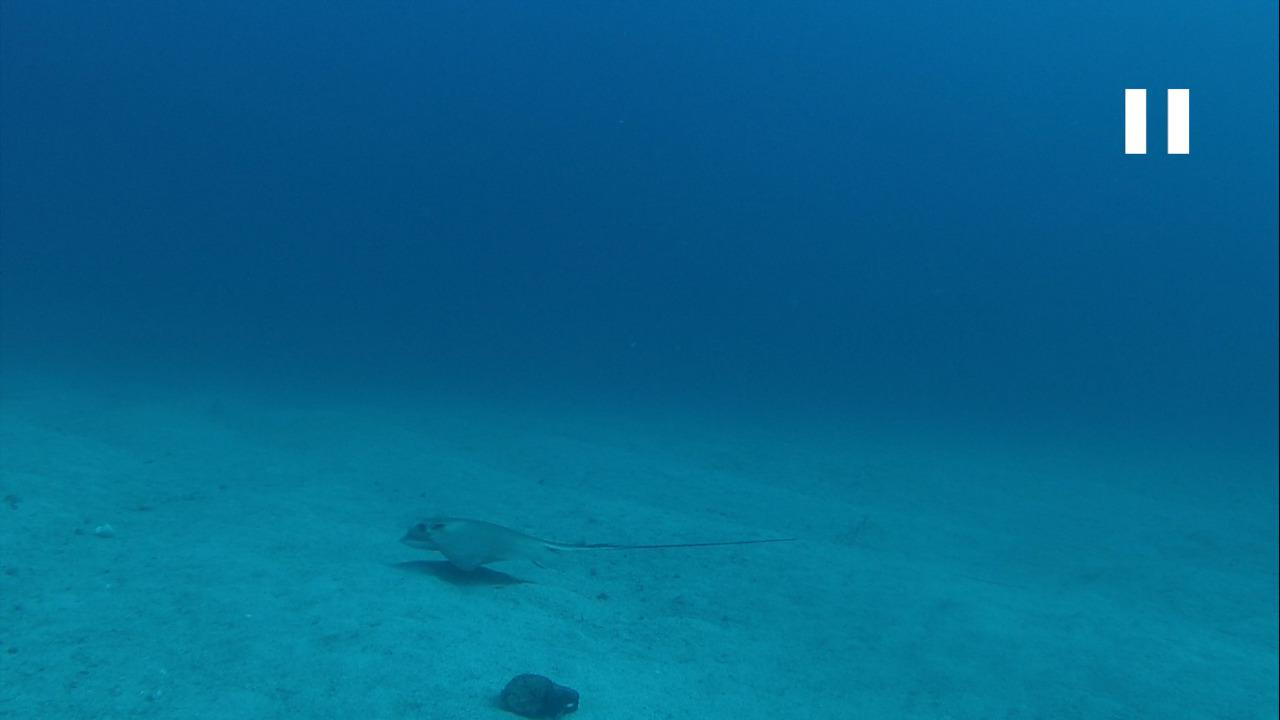myliobatis: (391, 502, 803, 577)
